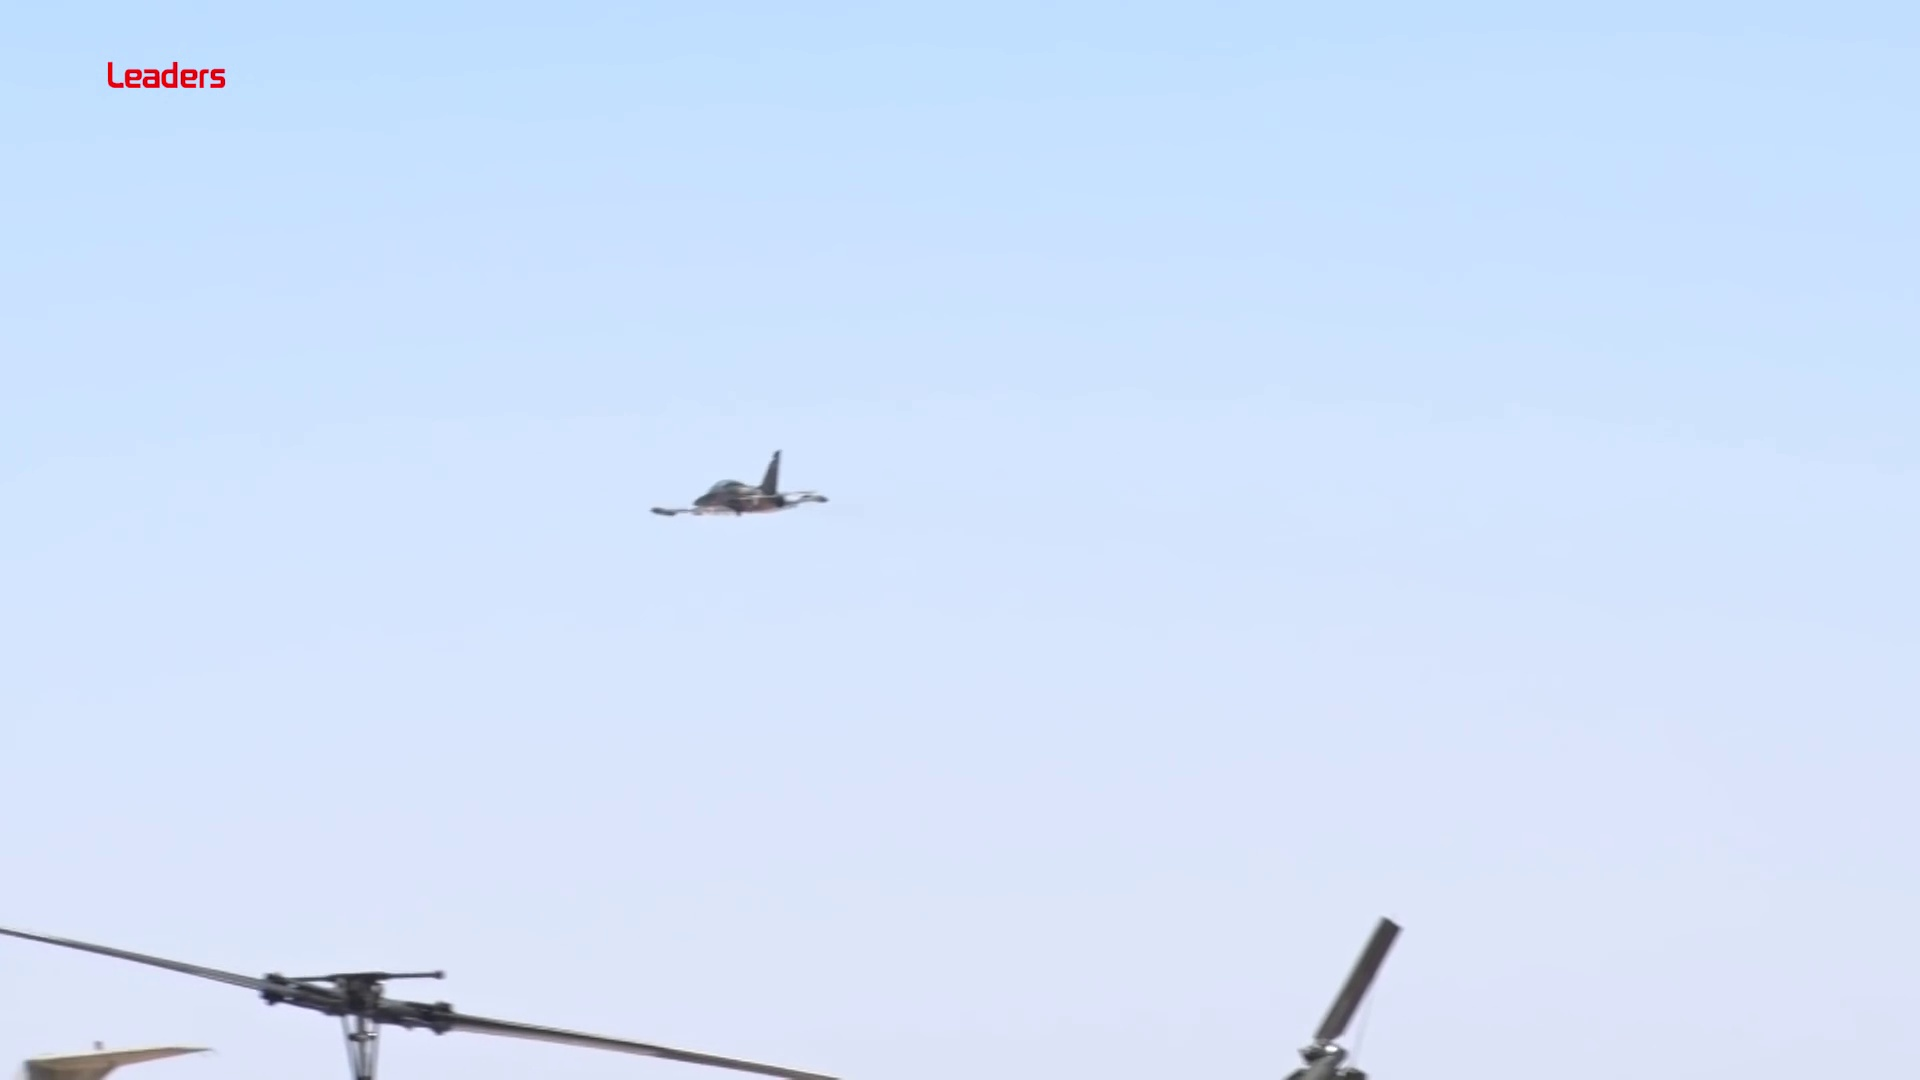Airplane: (649, 440, 833, 520)
